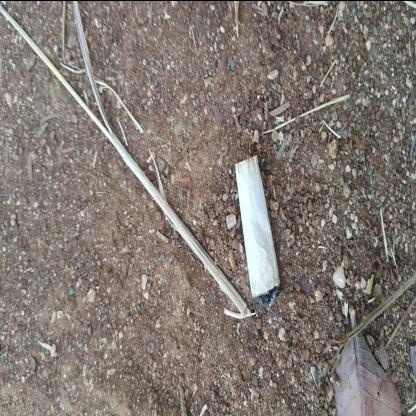kagit: (154, 133, 300, 181)
